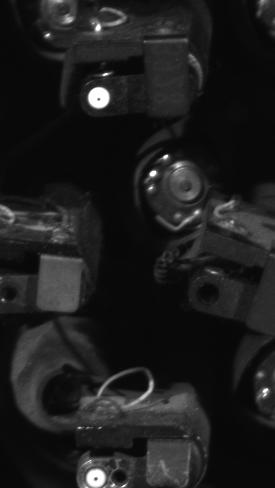fiber: (80, 81, 117, 113), (79, 463, 112, 488)
